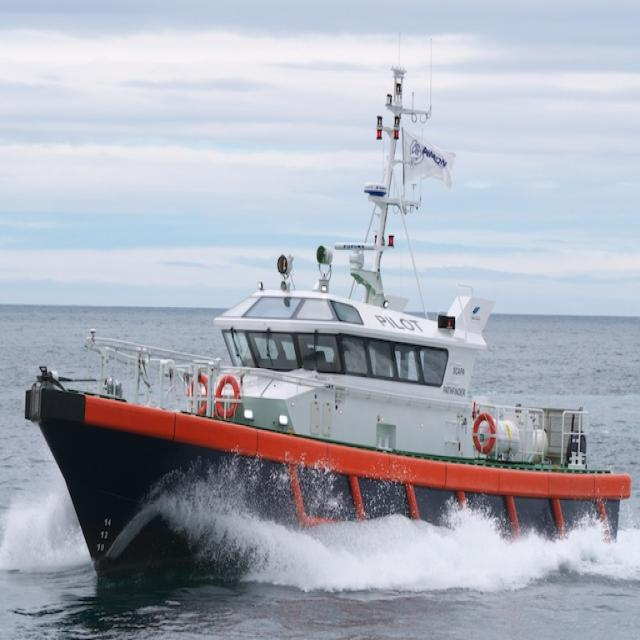houseboat: (23, 62, 614, 601)
